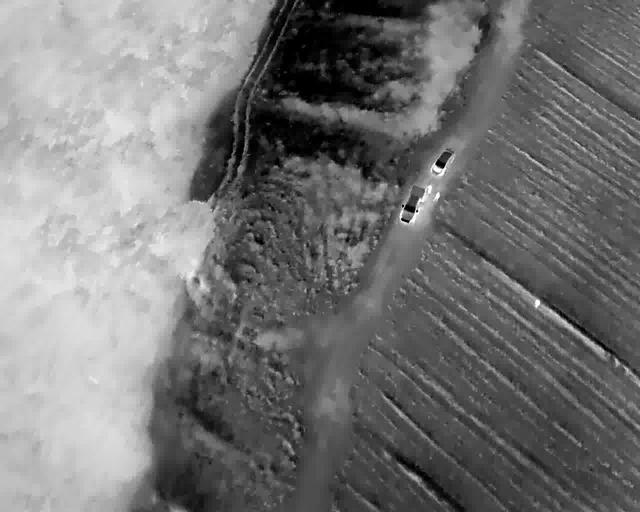car: (404, 182, 421, 225), (435, 145, 450, 177)
person: (534, 298, 541, 308), (434, 191, 440, 202), (427, 184, 432, 194)
